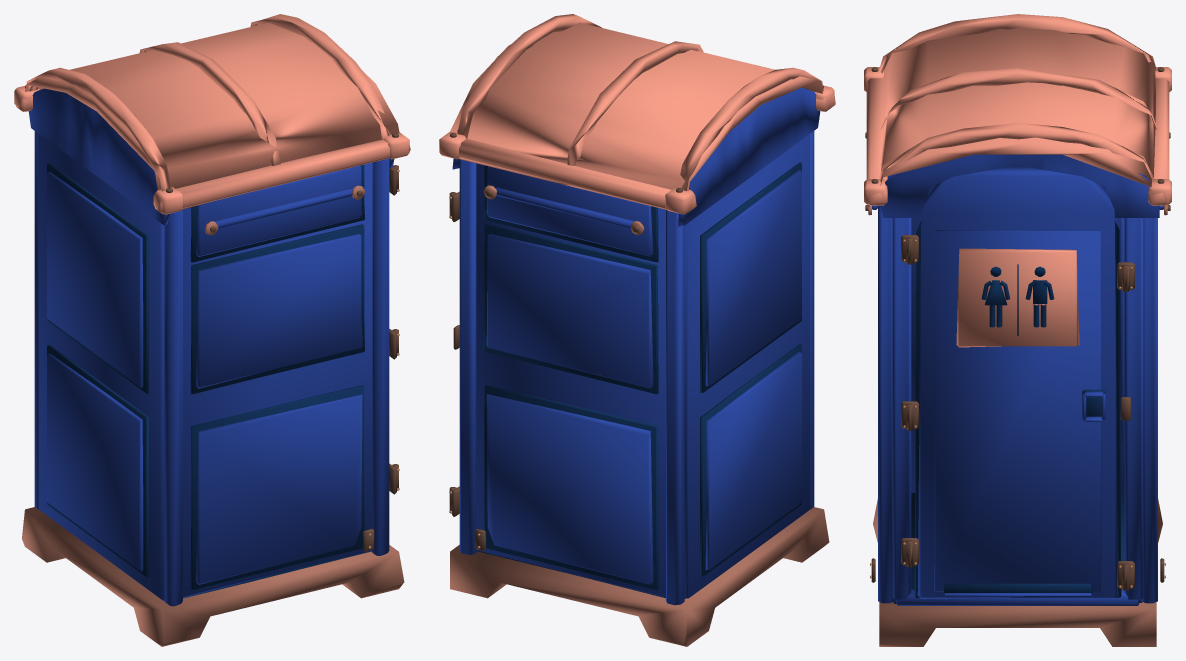
File: prop.porta-potty.lod2.glb
The picture shows the model from 3 angles, left to right: view 1: azimuth 30°, elevation 25°; view 2: azimuth 150°, elevation 25°; view 3: azimuth 270°, elevation 25°; orthographic projection.
Visible parts, largest first — view 1: body, object 2; view 2: body, object 2; view 3: object 2, body.
Boxes of the visible parts, x1=… form: body: x1=28, y1=88, x2=394, y2=606; object 2: x1=14, y1=14, x2=410, y2=646; body: x1=452, y1=88, x2=820, y2=605; object 2: x1=439, y1=14, x2=835, y2=646; object 2: x1=864, y1=14, x2=1171, y2=646; body: x1=872, y1=154, x2=1163, y2=605.
Bounding box in the file's own units: 1.31 × 2.45 × 1.33.
